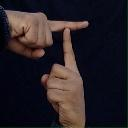hand: (40, 27, 86, 127), (1, 8, 89, 59)
